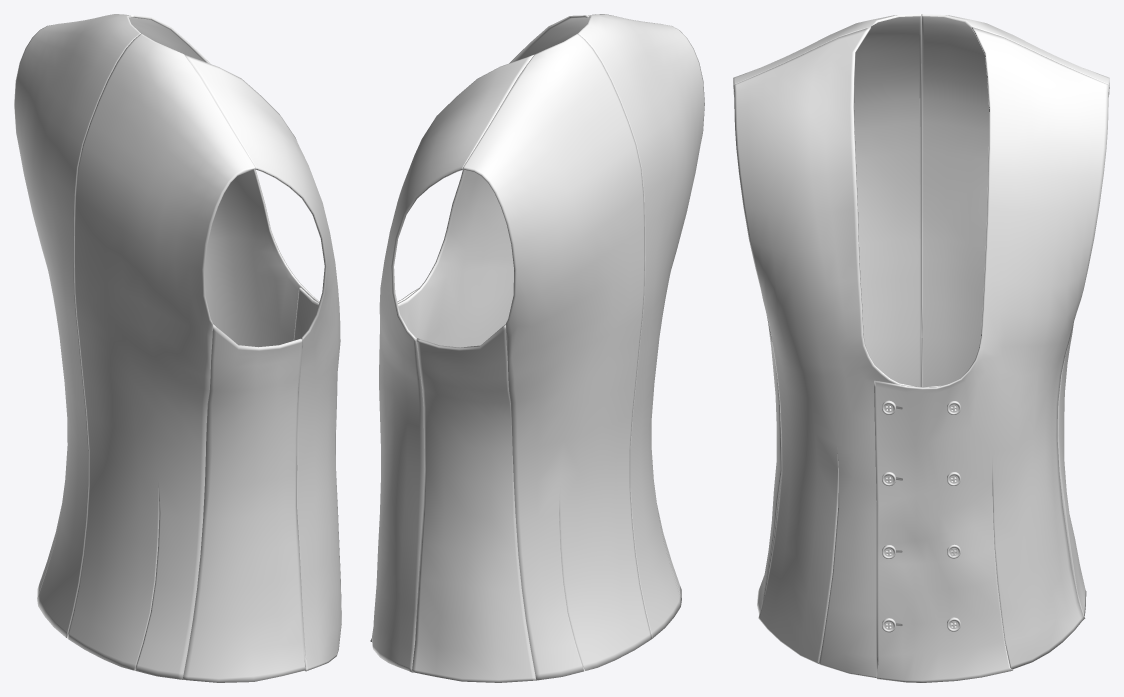
The model's file is double_breasted_8x4_buttons_horse_shoe_with_straight_bottom.glb.
The picture shows the model from 3 angles, left to right: view 1: azimuth 30°, elevation 25°; view 2: azimuth 150°, elevation 25°; view 3: azimuth 270°, elevation 25°; orthographic projection. The views are drawn at different scales.
Visible parts, largest first — view 1: SM_Vest_Back_outside, SM_Vest_front_Sigle_8*4Button_straight; view 2: SM_Vest_Back_outside, SM_Vest_front_Sigle_8*4Button_straight; view 3: SM_Vest_front_Sigle_8*4Button_straight, SM_Vest_Back_outside, SM_Button_8*4.
Boxes of the visible parts, x1=… form: SM_Vest_Back_outside: x1=14, y1=14, x2=306, y2=682; SM_Vest_front_Sigle_8*4Button_straight: x1=129, y1=15, x2=341, y2=671; SM_Vest_Back_outside: x1=411, y1=14, x2=704, y2=682; SM_Vest_front_Sigle_8*4Button_straight: x1=370, y1=15, x2=589, y2=672; SM_Vest_front_Sigle_8*4Button_straight: x1=733, y1=27, x2=1109, y2=682; SM_Vest_Back_outside: x1=733, y1=14, x2=1109, y2=618; SM_Button_8*4: x1=882, y1=400, x2=960, y2=632.
Bounding box in the file's own units: 1.55 × 3.65 × 2.12.
5 materials, 1 textured.
